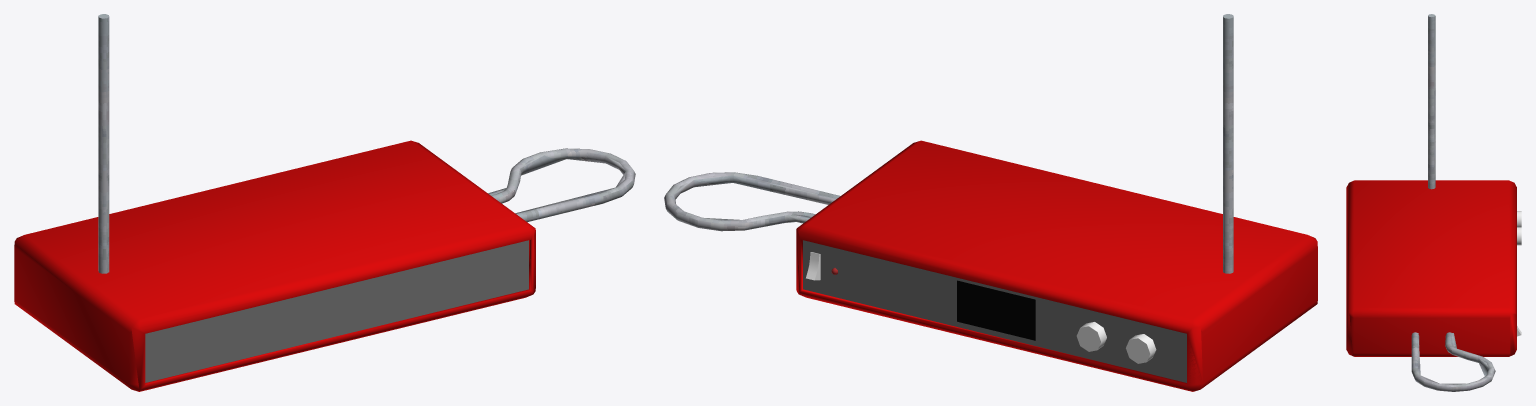
File: item_theremin.glb
The picture shows the model from 3 angles, left to right: view 1: azimuth 30°, elevation 25°; view 2: azimuth 150°, elevation 25°; view 3: azimuth 270°, elevation 25°; orthographic projection. The views are drawn at different scales.
Visible parts, largest first — view 1: ThereminBody_submesh_0, ThereminBody_submesh_1, ThereminBody_submesh_4; view 2: ThereminBody_submesh_0, ThereminBody_submesh_1, ThereminBody_submesh_4, Quad, ThereminBody_submesh_3; view 3: ThereminBody_submesh_0, ThereminBody_submesh_4, ThereminBody_submesh_3.
Boxes of the visible parts, x1,y1,x2,y2 form: ThereminBody_submesh_0: (14, 140, 535, 391); ThereminBody_submesh_1: (145, 240, 528, 382); ThereminBody_submesh_4: (98, 14, 635, 273); ThereminBody_submesh_0: (796, 140, 1317, 391); ThereminBody_submesh_1: (803, 240, 1186, 382); ThereminBody_submesh_4: (664, 14, 1233, 273); Quad: (957, 280, 1035, 340); ThereminBody_submesh_3: (1076, 322, 1156, 363); ThereminBody_submesh_0: (1346, 180, 1516, 356); ThereminBody_submesh_4: (1411, 14, 1495, 391); ThereminBody_submesh_3: (1517, 211, 1521, 245).
Size of the model in its own units: 0.4651 by 0.2549 by 0.1829.
6 materials, 1 textured.
